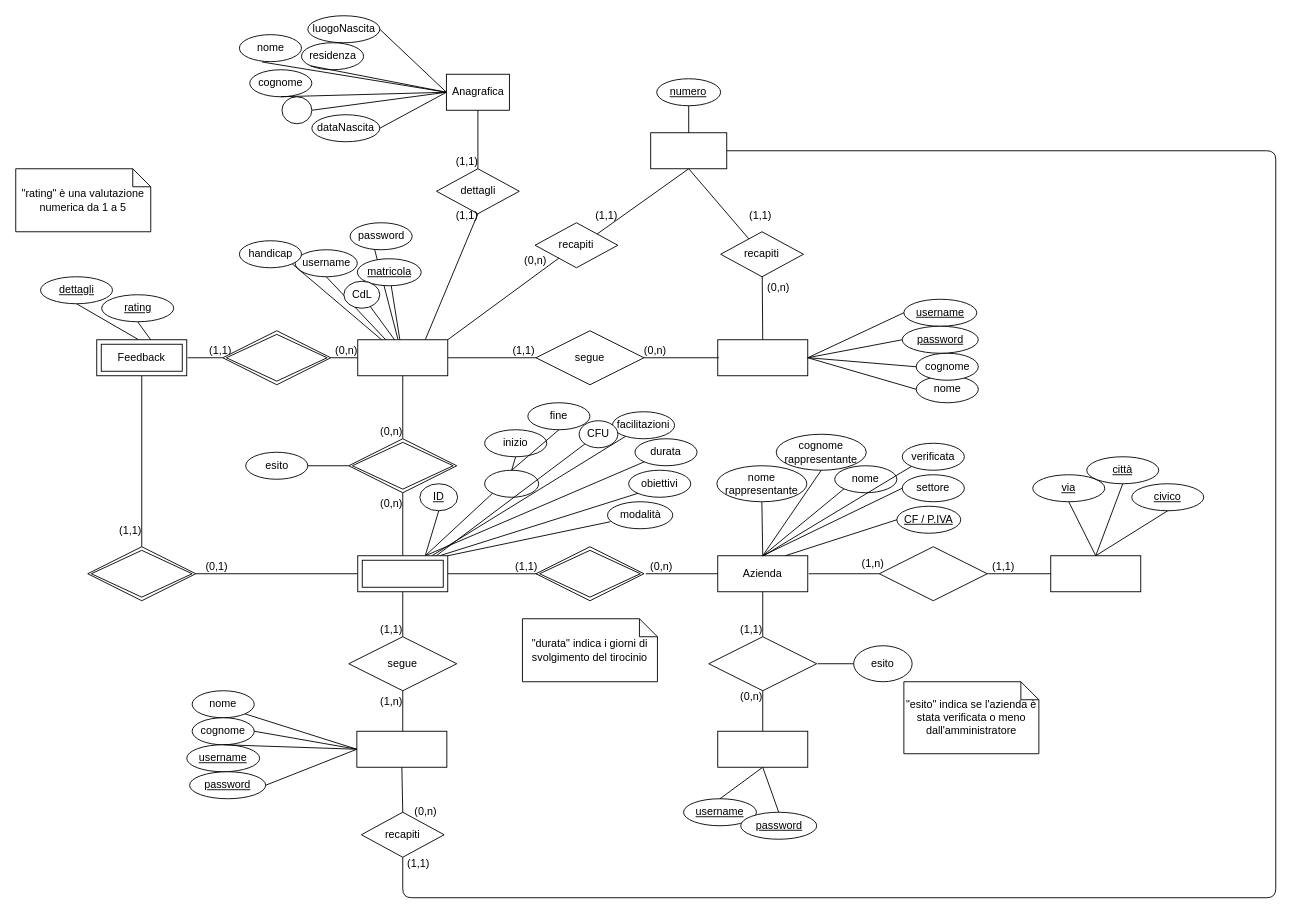
The diagram is 1292 pixels wide and 914 high, and some of its shapes have lost their labels. Each missing label, with the box of its shape:
Amministratore: (717, 730, 808, 767)
assegnato: (878, 546, 987, 601)
CF: (281, 96, 312, 124)
offre: (535, 546, 644, 601)
orari: (484, 469, 539, 497)
relativo: (87, 546, 196, 601)
rilascia: (222, 330, 331, 385)
Sede: (1050, 555, 1141, 592)
Studente: (357, 339, 448, 376)
Svolge: (348, 438, 457, 493)
telefono: (650, 132, 727, 169)
Tirocinio: (357, 555, 448, 592)
Tutor aziendale: (356, 730, 447, 767)
Tutor universitario: (717, 339, 808, 376)
verifica: (708, 636, 817, 691)
